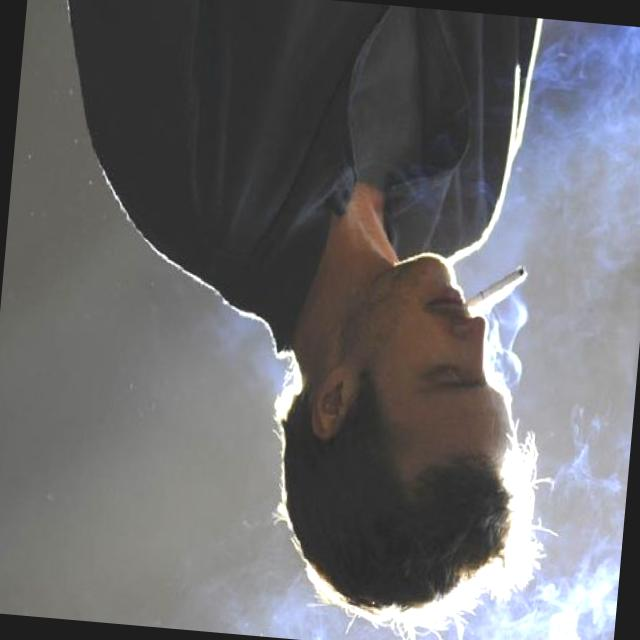smoke: (464, 249, 540, 318)
